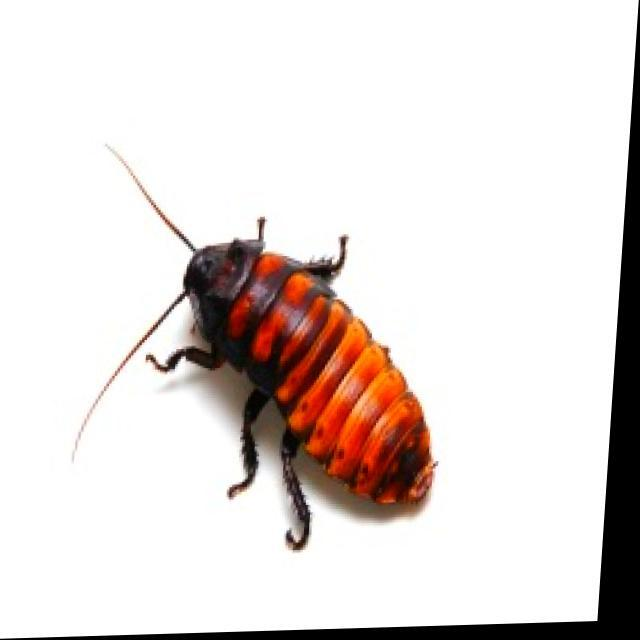cockroach: (68, 140, 442, 554)
